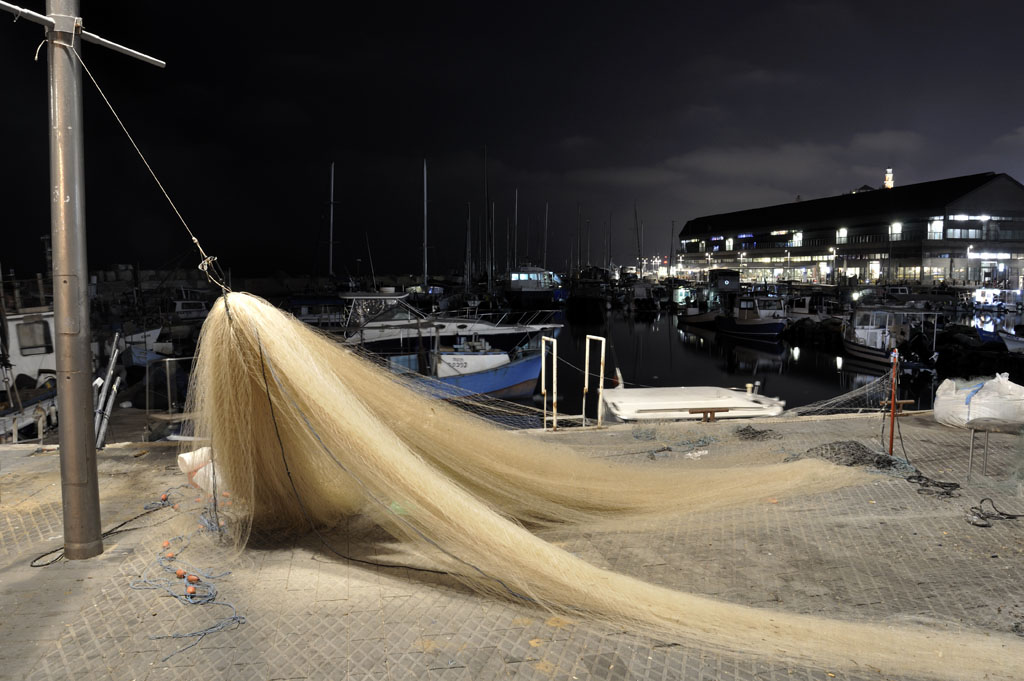net: (198, 297, 437, 546), (423, 392, 841, 517), (668, 583, 1005, 680), (452, 503, 666, 630)
